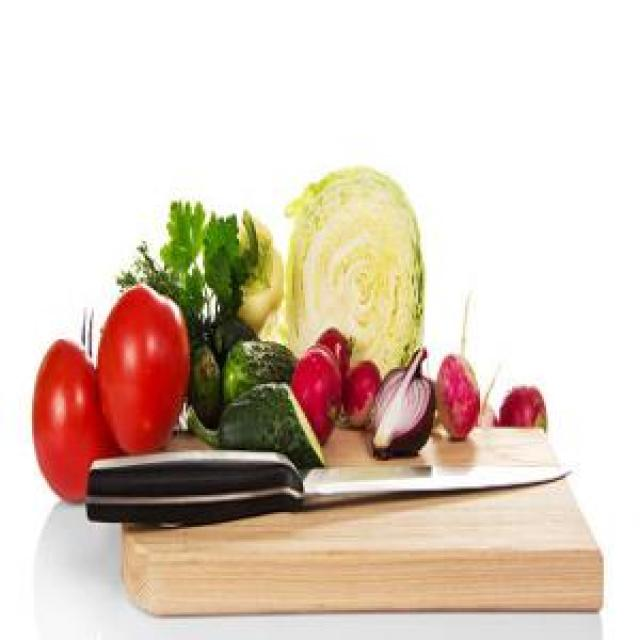knife: (83, 444, 576, 518)
